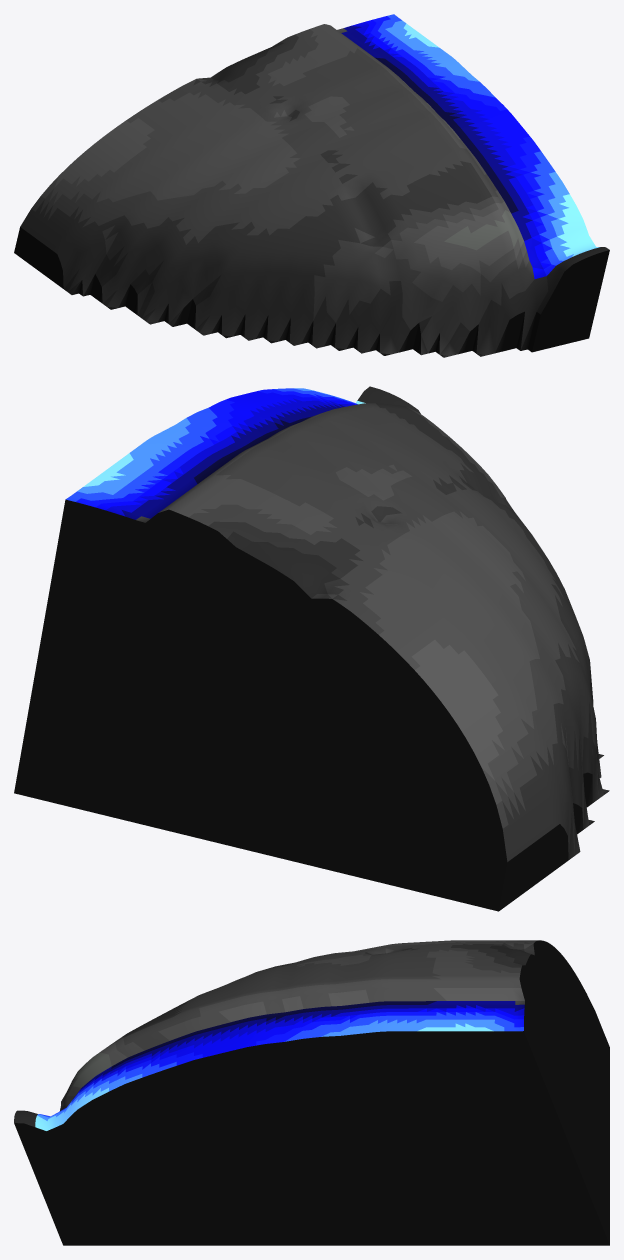
Rendered from time_capsule_130.glb.
3 renders of one model, top to bottom at view 1: azimuth 30°, elevation 25°; view 2: azimuth 150°, elevation 25°; view 3: azimuth 270°, elevation 25°, orthographic. The views are drawn at different scales.
Parts seen in each view (by area): view 1: time_capsule_130; view 2: time_capsule_130; view 3: time_capsule_130.
Part boxes in pixels (x1,y1,x2,y2): time_capsule_130: (14, 14, 609, 357); time_capsule_130: (14, 386, 609, 911); time_capsule_130: (14, 940, 609, 1245).
Bounding box in the file's own units: 24 × 12.72 × 30.52.
